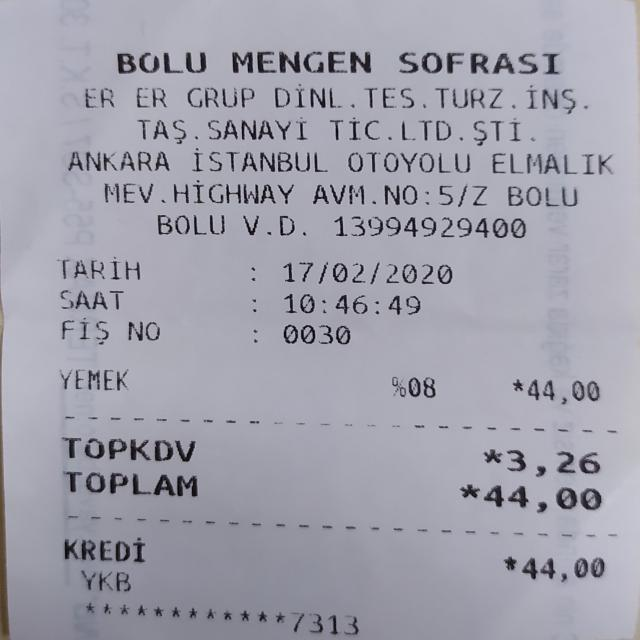text: (329, 114, 526, 148), (101, 180, 300, 206), (335, 212, 525, 239), (313, 180, 487, 206), (273, 83, 415, 113), (484, 480, 600, 516), (283, 260, 452, 284), (66, 467, 196, 498), (398, 49, 557, 74), (62, 434, 194, 461), (211, 113, 317, 146), (232, 49, 370, 74), (191, 148, 325, 173), (285, 292, 419, 317), (492, 150, 610, 176), (506, 446, 599, 478), (346, 150, 466, 174), (68, 147, 168, 172), (117, 49, 205, 74), (520, 554, 607, 579), (64, 535, 144, 561), (187, 82, 253, 113), (63, 254, 134, 282), (528, 378, 599, 406), (442, 84, 502, 114), (295, 608, 355, 638), (508, 182, 577, 208), (140, 112, 193, 145), (156, 211, 224, 236), (60, 366, 125, 392), (242, 212, 305, 237), (283, 322, 349, 345), (522, 85, 574, 112), (59, 287, 122, 309), (61, 316, 108, 343), (80, 568, 130, 590), (128, 316, 160, 344), (85, 82, 113, 112), (137, 82, 164, 112), (409, 374, 435, 396), (483, 446, 500, 478), (191, 113, 205, 145), (456, 482, 480, 500), (522, 115, 534, 147), (511, 84, 523, 114), (500, 553, 517, 572), (392, 374, 405, 396), (512, 378, 521, 404), (585, 85, 592, 115), (252, 322, 256, 345), (251, 260, 254, 284), (252, 292, 255, 316), (251, 523, 260, 524)
